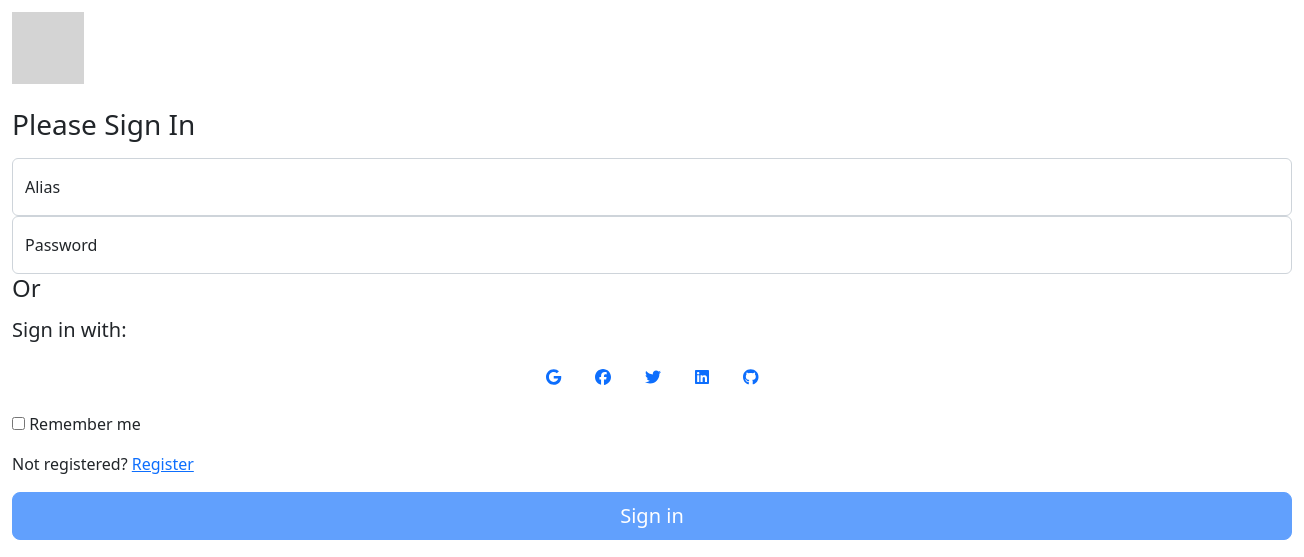
Test: Login Component › enables the sign-in button if both alias and password fields have test
The image size is (1304, 557).
Type "a" into the field labelled "Alias" at (652, 187), box [12,158,1292,216]
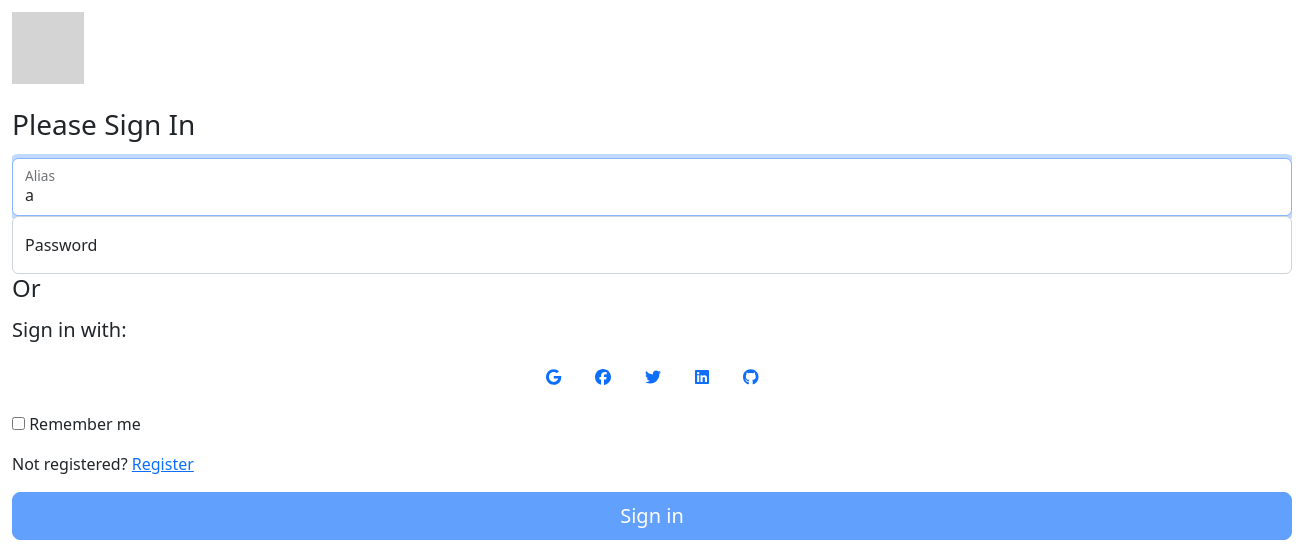
Type "a" into the password field labelled "Password" at (652, 245), box [12,216,1292,274]
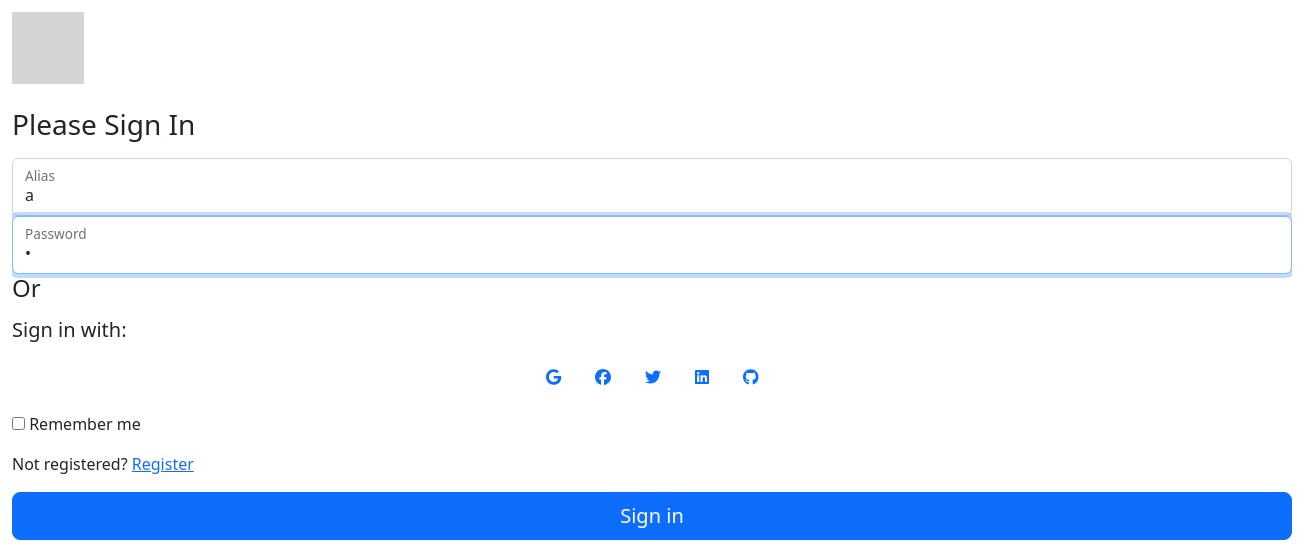
Expected: the button "Sign in" is enabled, [12,492,1292,540]
